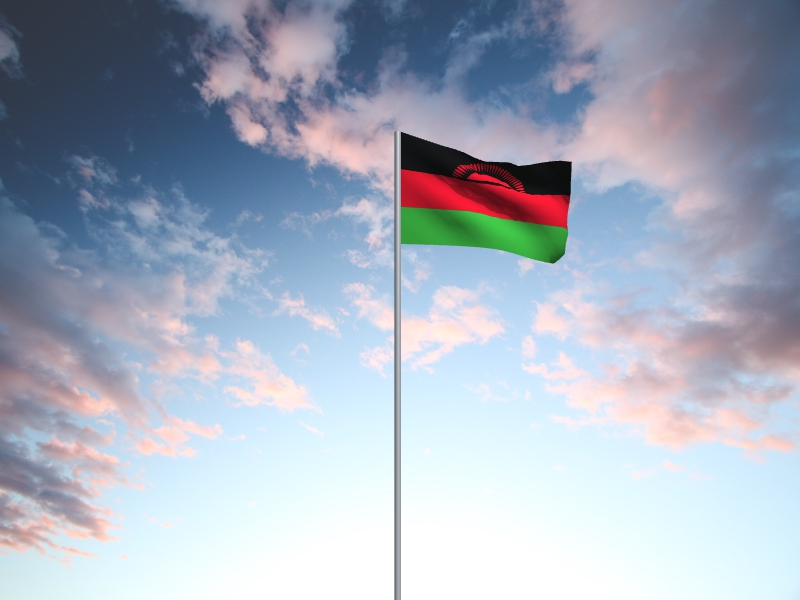mw: (402, 133, 573, 266)
